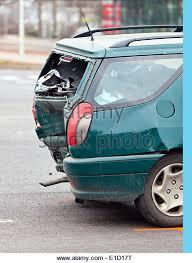Rear-windscreen-Damage: (34, 47, 90, 96)
